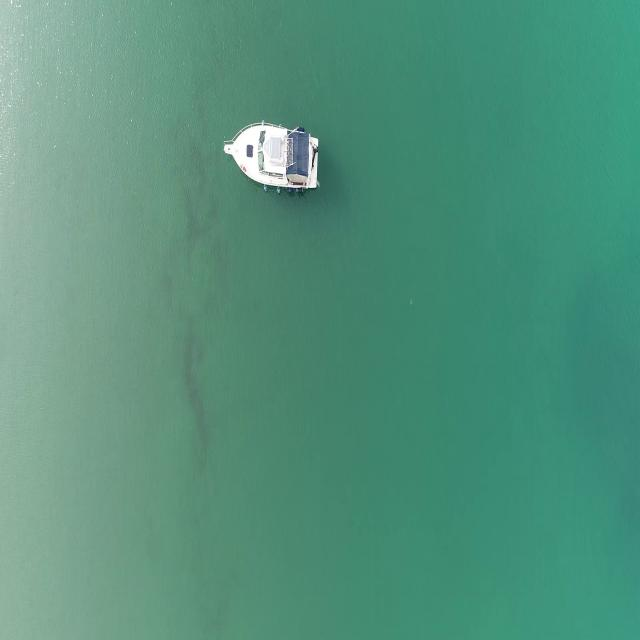boat: (222, 119, 320, 197)
